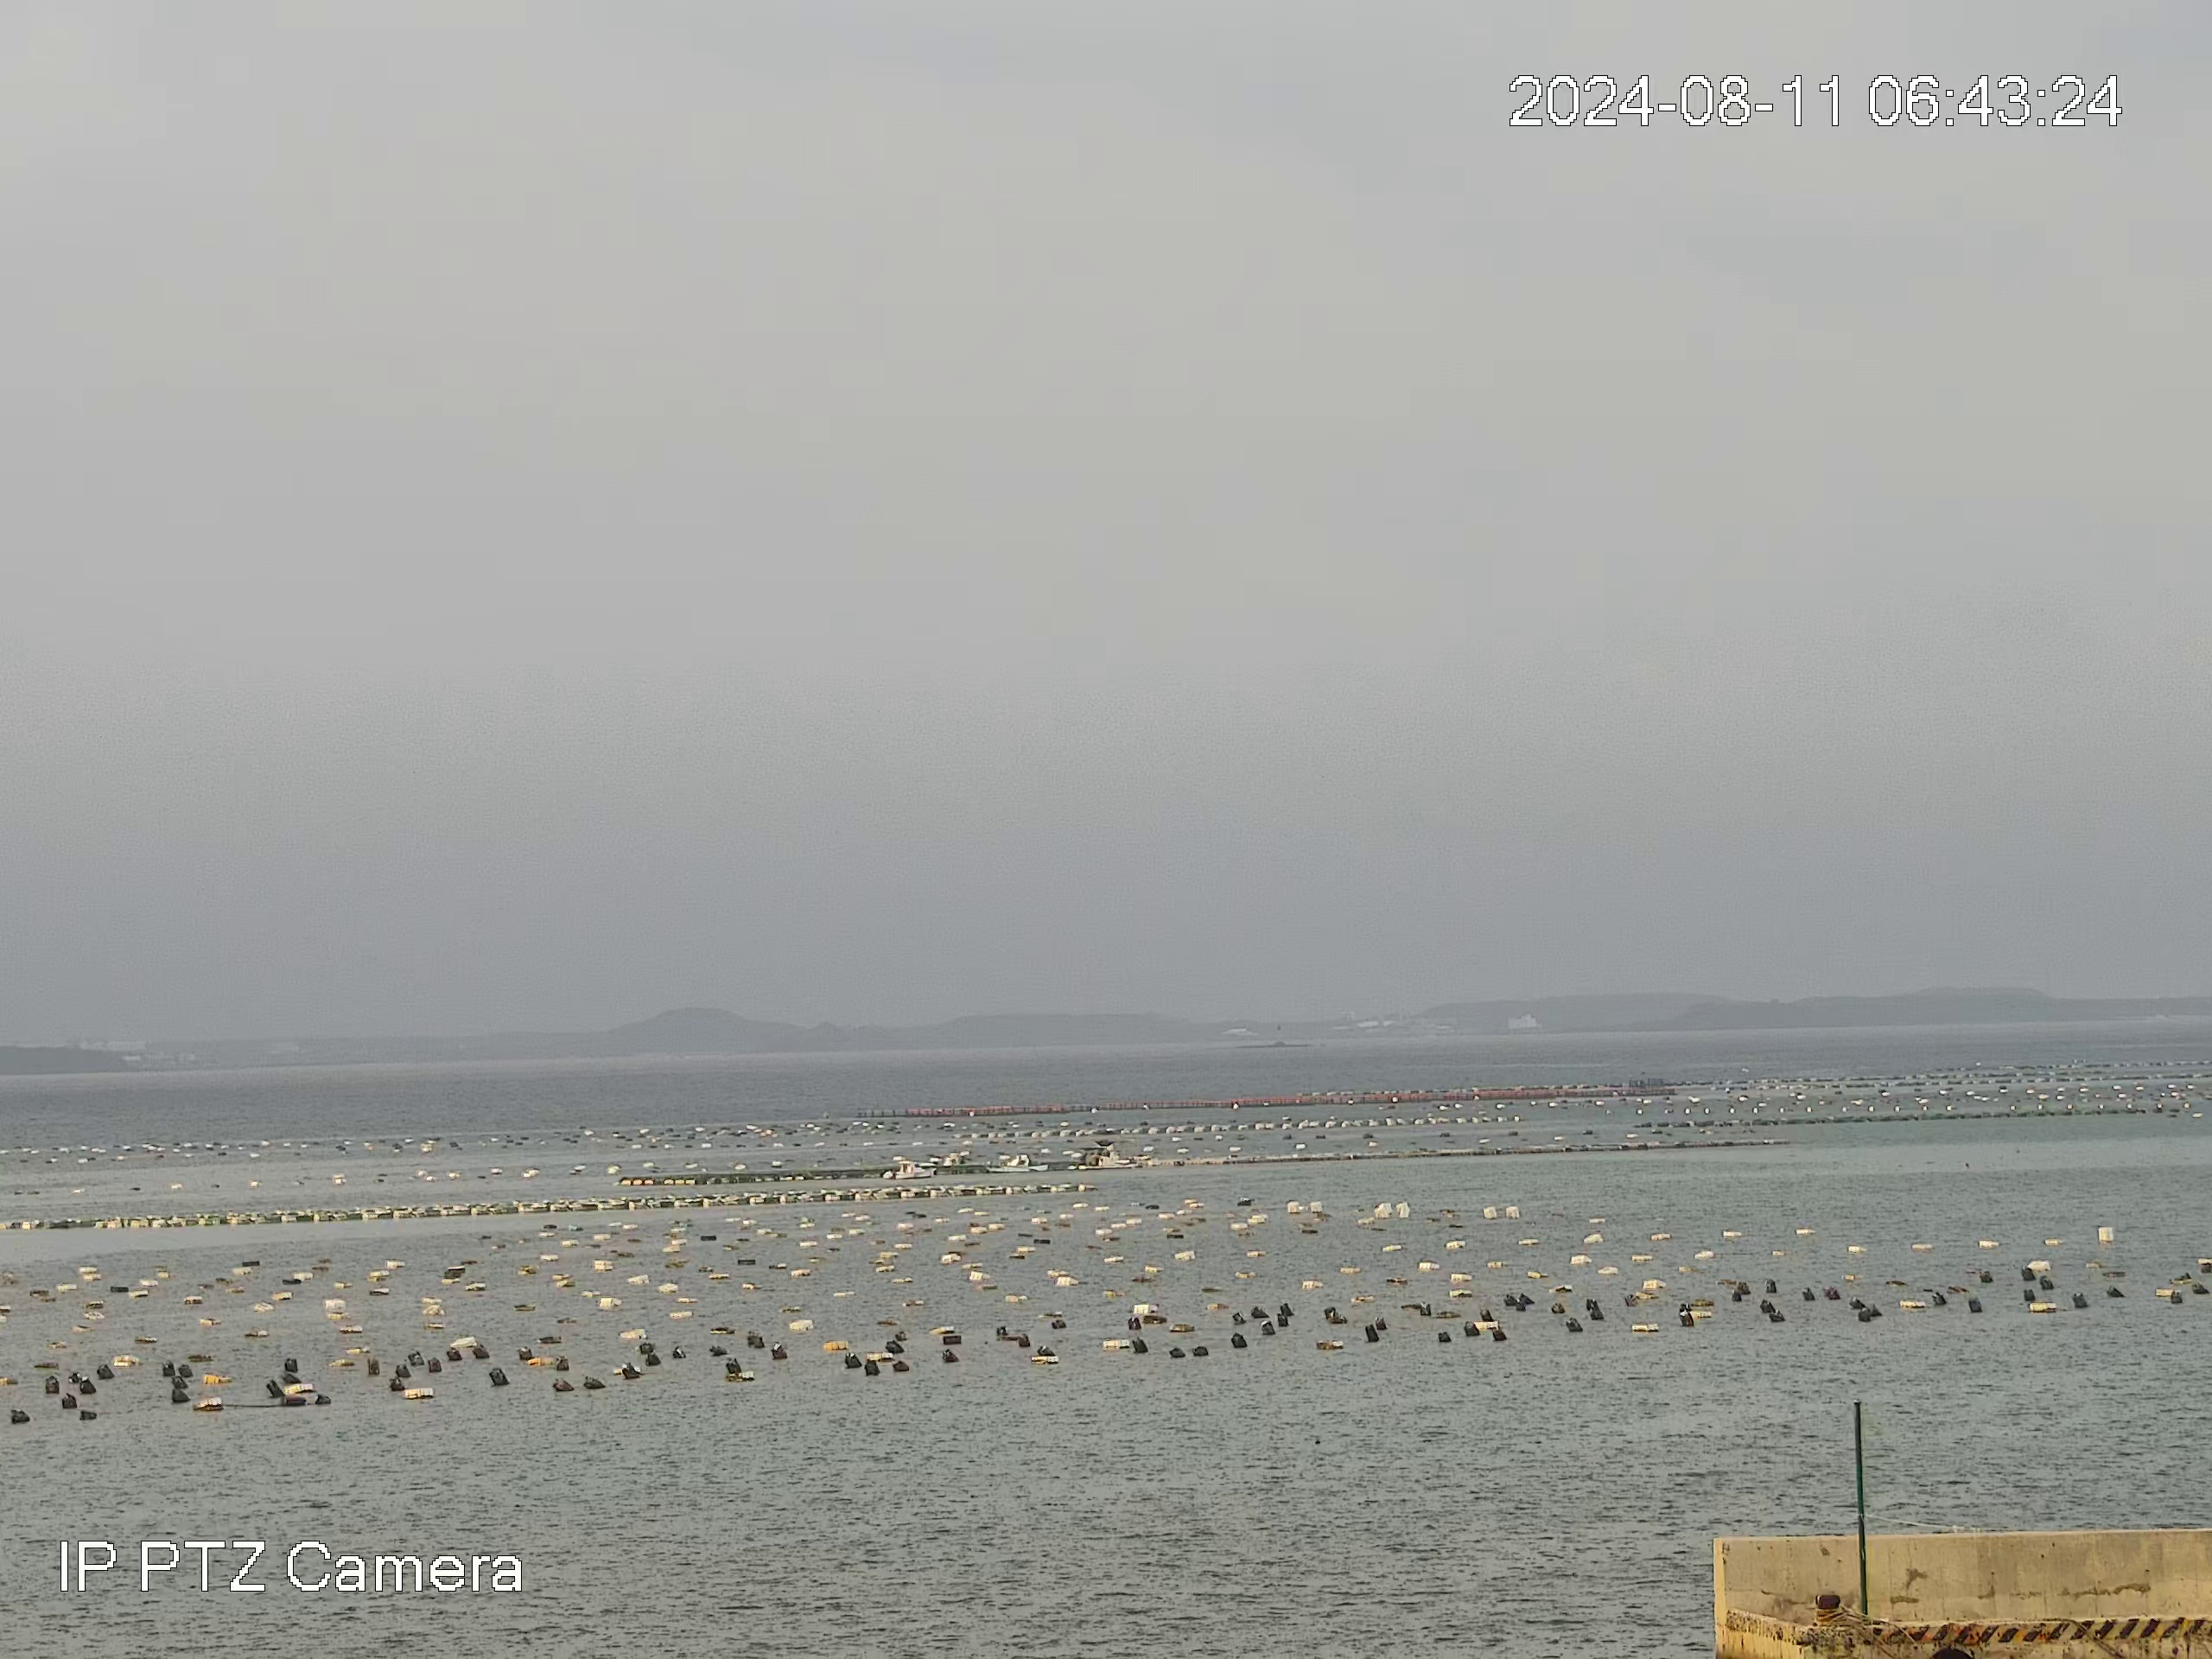boat: (982, 1152, 1050, 1175), (881, 1155, 939, 1180), (1066, 1154, 1115, 1169)
